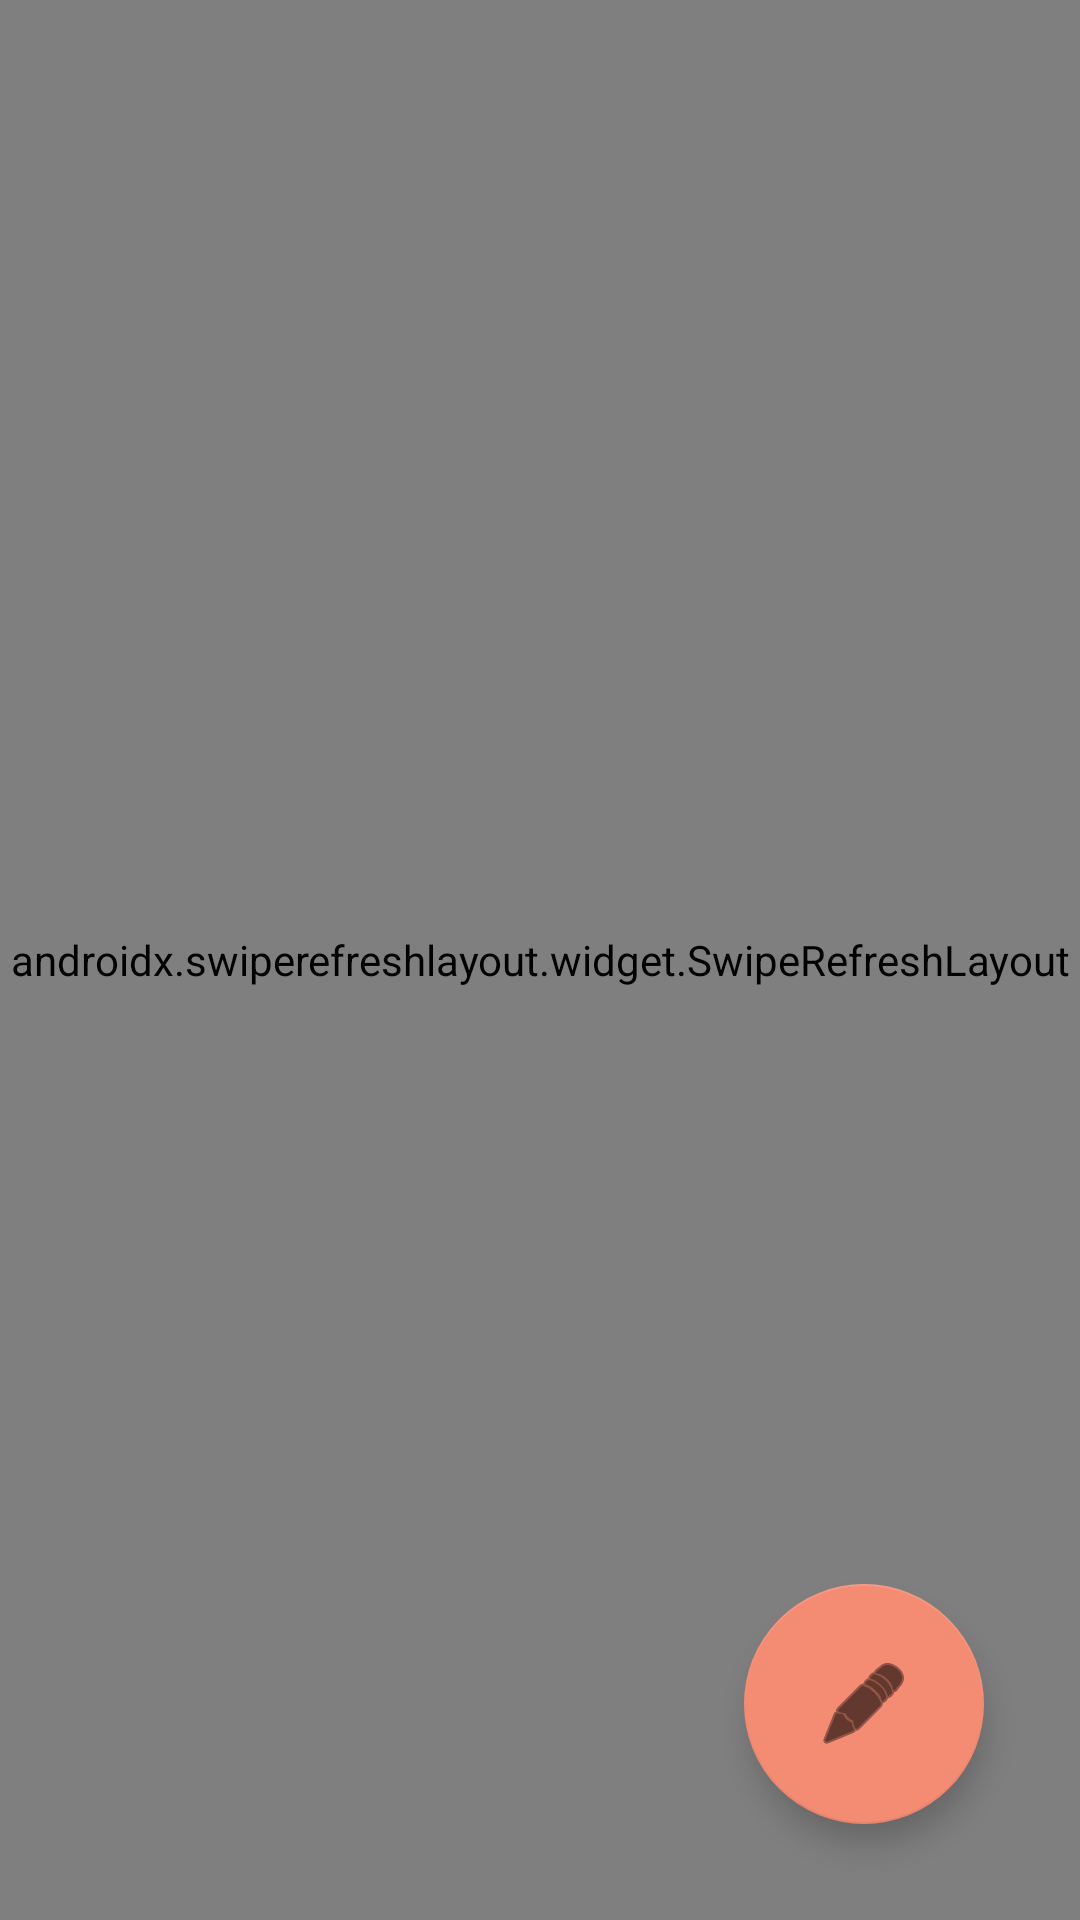

Icons on this 1080w x 1920h Android screen, each with the point to tap as [x,y]:
edit: [864,1704]
